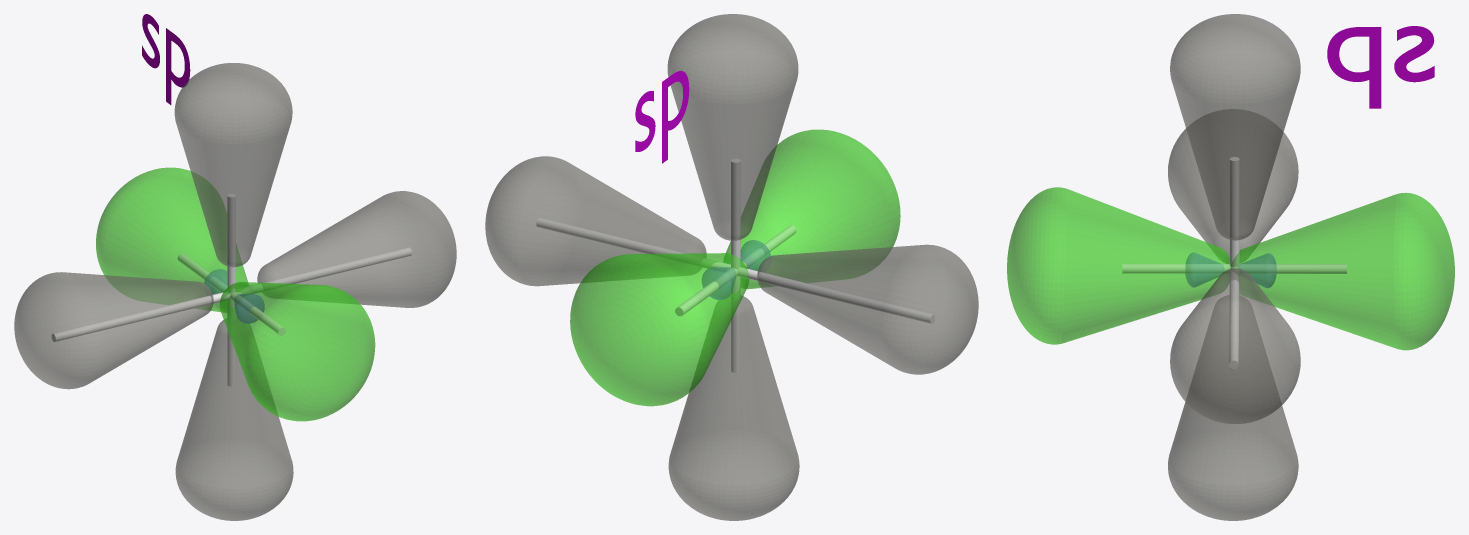
3 views of the same model, side by side, from view 1: azimuth 30°, elevation 25°; view 2: azimuth 150°, elevation 25°; view 3: azimuth 270°, elevation 25° (orthographic). The views are drawn at different scales.
Parts seen in each view (by area): view 1: suborbital p.003, suborbital p.009, suborbital p.004, suborbital p.008, suborbital p.005, suborbital p.007, Cylinder.001, Cylinder, Text, Cylinder.002, suborbital p.006; view 2: suborbital p.007, suborbital p.004, suborbital p.008, suborbital p.003, suborbital p.009, suborbital p.005, Cylinder.001, Cylinder, Text, Cylinder.002, suborbital p.002, suborbital p.006; view 3: suborbital p.003, suborbital p.007, suborbital p.009, suborbital p.008, suborbital p.005, suborbital p.004, Text, Cylinder.002, Cylinder, Cylinder.001, suborbital p.006, suborbital p.002.
Part boxes in pixels (bbox=[...]): suborbital p.003: bbox=[219, 282, 375, 421]; suborbital p.009: bbox=[174, 63, 292, 267]; suborbital p.004: bbox=[14, 272, 213, 389]; suborbital p.008: bbox=[175, 317, 293, 520]; suborbital p.005: bbox=[257, 191, 456, 307]; suborbital p.007: bbox=[96, 167, 248, 312]; Cylinder.001: bbox=[51, 247, 411, 341]; Cylinder: bbox=[227, 193, 235, 386]; Text: bbox=[142, 14, 190, 104]; Cylinder.002: bbox=[177, 253, 285, 335]; suborbital p.006: bbox=[234, 294, 264, 323]; suborbital p.007: bbox=[570, 253, 749, 406]; suborbital p.004: bbox=[757, 244, 978, 374]; suborbital p.008: bbox=[668, 295, 799, 520]; suborbital p.003: bbox=[724, 129, 900, 289]; suborbital p.009: bbox=[667, 14, 798, 240]; suborbital p.005: bbox=[485, 156, 706, 286]; Cylinder.001: bbox=[536, 217, 935, 323]; Cylinder: bbox=[731, 158, 740, 372]; Text: bbox=[635, 71, 689, 163]; Cylinder.002: bbox=[675, 225, 796, 316]; suborbital p.002: bbox=[702, 267, 736, 299]; suborbital p.006: bbox=[741, 240, 770, 270]; suborbital p.003: bbox=[1007, 187, 1230, 344]; suborbital p.007: bbox=[1230, 192, 1454, 350]; suborbital p.009: bbox=[1170, 14, 1300, 240]; suborbital p.008: bbox=[1168, 295, 1298, 520]; suborbital p.005: bbox=[1170, 268, 1300, 423]; suborbital p.004: bbox=[1168, 109, 1298, 263]; Text: bbox=[1327, 26, 1434, 108]; Cylinder.002: bbox=[1122, 264, 1346, 273]; Cylinder: bbox=[1229, 157, 1239, 369]; Cylinder.001: bbox=[1229, 266, 1239, 369]; suborbital p.006: bbox=[1185, 252, 1224, 287]; suborbital p.002: bbox=[1238, 253, 1276, 287].
Bounding box in the file's own units: 4.09 × 4.09 × 3.37.
